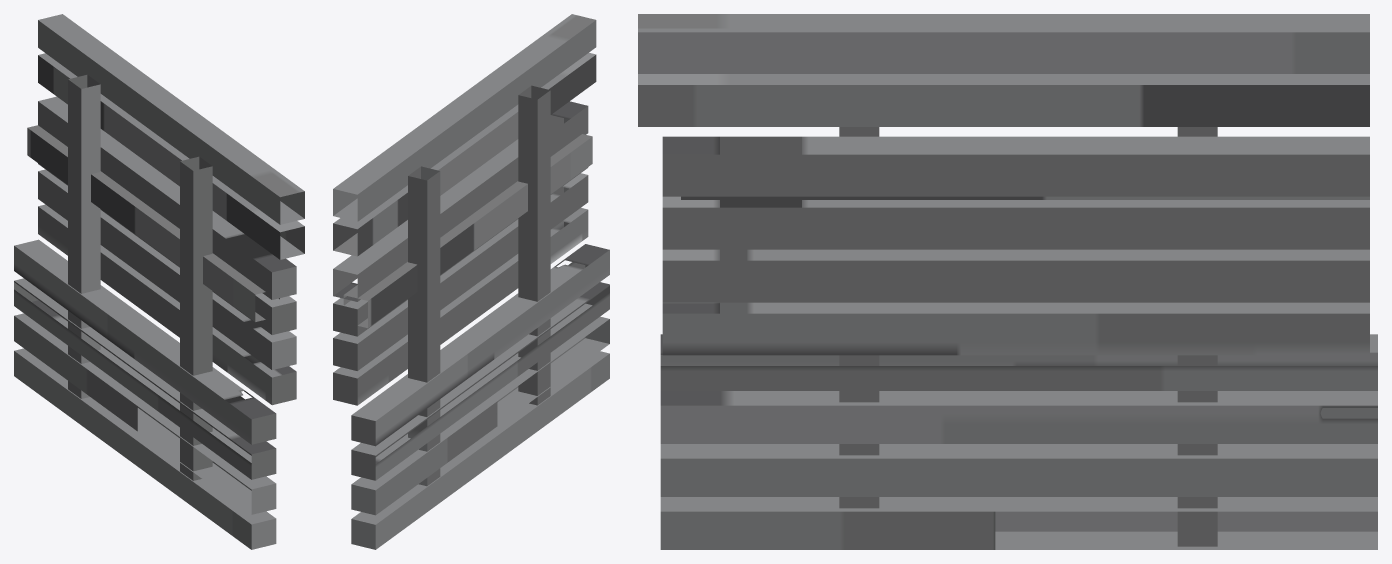
3 views of the same model, side by side, from view 1: azimuth 30°, elevation 25°; view 2: azimuth 150°, elevation 25°; view 3: azimuth 270°, elevation 25° (orthographic). The views are drawn at different scales.
Size of the model in its own units: 0.13 by 0.9575 by 1.2.
